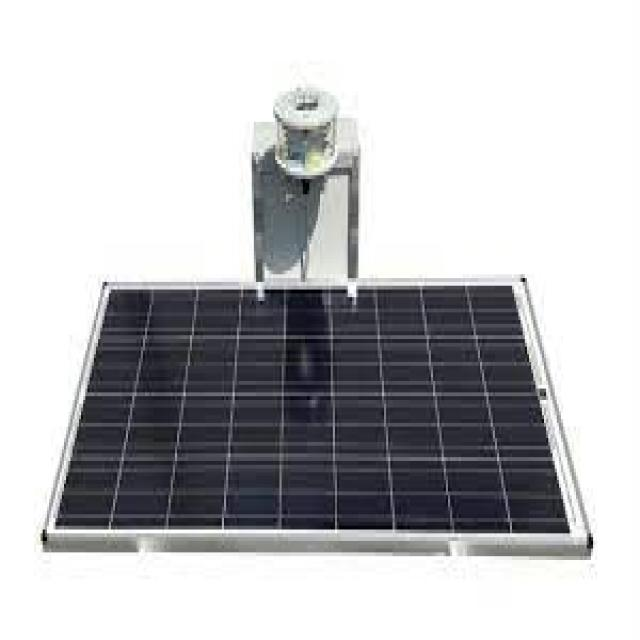no faulty: (71, 302, 565, 556)
